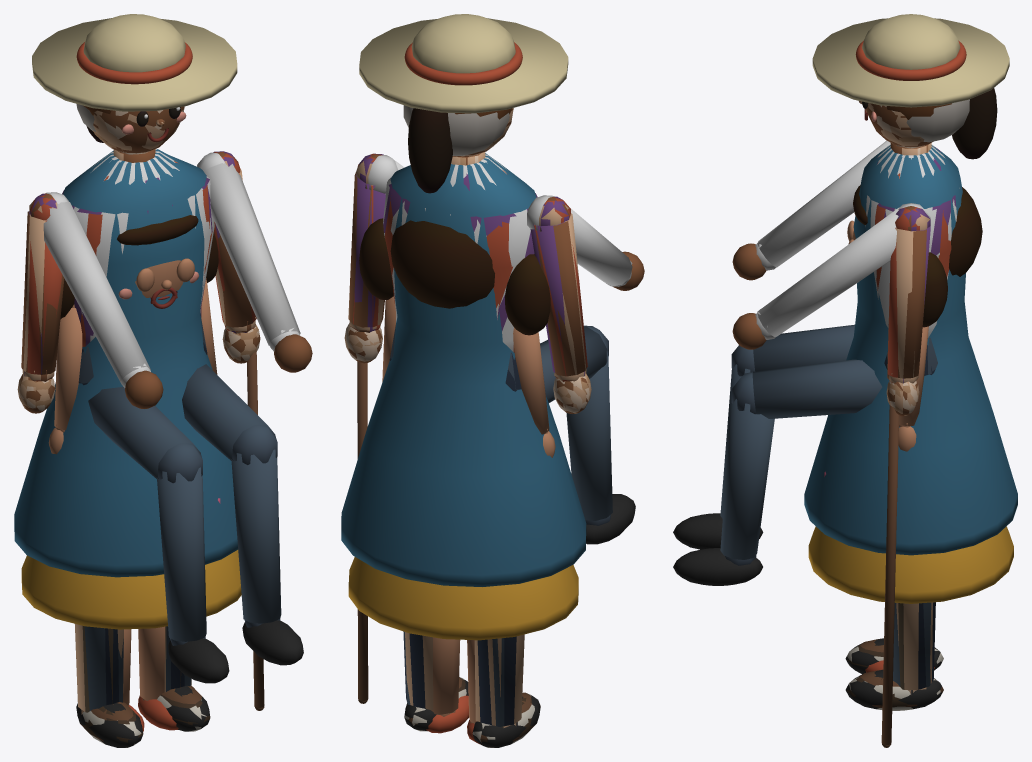
The model's file is people.glb.
3 renders of one model, left to right at view 1: azimuth 30°, elevation 25°; view 2: azimuth 150°, elevation 25°; view 3: azimuth 270°, elevation 25°, orthographic. The views are drawn at different scales.
Visible parts, largest first — view 1: adult-0, rider, mira-body, adult-1, adult-2, adult-3, mira-head, mira-arm-l, mira-arm-r, mira-lids; view 2: adult-0, mira-body, rider, adult-3, mira-head, adult-1, adult-2, mira-arm-l, mira-arm-r; view 3: adult-0, rider, mira-body, adult-2, adult-1, adult-3, mira-head, mira-arm-r.
Part boxes in pixels (x1,y1,x2,y2): adult-0: [14, 14, 259, 741]; rider: [43, 107, 312, 683]; mira-body: [21, 498, 241, 732]; adult-1: [18, 106, 260, 747]; adult-2: [19, 104, 264, 742]; adult-3: [18, 108, 258, 747]; mira-head: [60, 215, 218, 319]; mira-arm-l: [48, 304, 82, 454]; mira-arm-r: [201, 278, 217, 374]; mira-lids: [136, 258, 194, 291]; adult-0: [341, 14, 591, 742]; mira-body: [348, 557, 578, 744]; rider: [368, 121, 644, 544]; adult-3: [349, 108, 590, 747]; mira-head: [359, 218, 550, 335]; adult-1: [348, 108, 588, 747]; adult-2: [345, 105, 589, 742]; mira-arm-l: [513, 327, 555, 457]; mira-arm-r: [382, 296, 395, 381]; adult-0: [804, 14, 1017, 707]; rider: [673, 101, 959, 585]; mira-body: [808, 471, 1013, 672]; adult-2: [846, 99, 969, 747]; adult-1: [845, 101, 956, 709]; adult-3: [847, 88, 997, 710]; mira-head: [852, 185, 982, 327]; mira-arm-r: [898, 326, 928, 451].
Size of the model in its own units: 0.64 by 1.81 by 0.8401.
